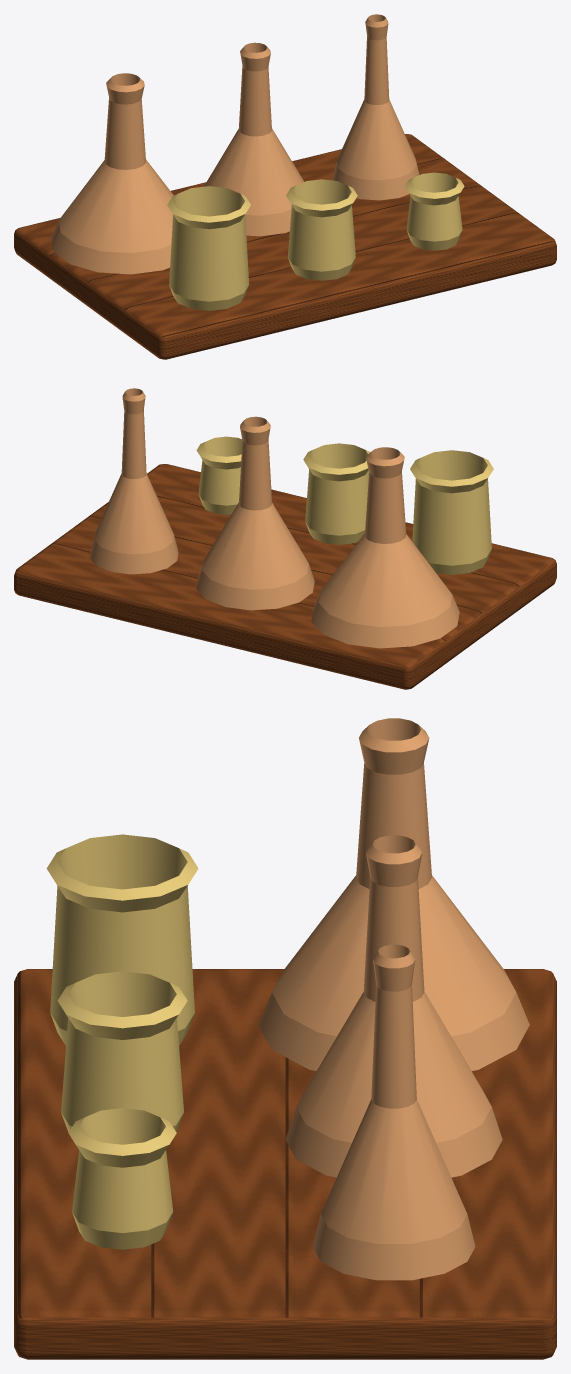
Rendered from witch-cottage-and-apothecary-funnel-and-measure-set-23ffa721__32482.glb.
The picture shows the model from 3 angles, top to bottom: view 1: azimuth 30°, elevation 25°; view 2: azimuth 150°, elevation 25°; view 3: azimuth 270°, elevation 25°; orthographic projection. The views are drawn at different scales.
Visible parts, largest first — view 1: funnel-and-measure-set; view 2: funnel-and-measure-set; view 3: funnel-and-measure-set.
Boxes of the visible parts, x1,y1,x2,y2 form: funnel-and-measure-set: (14,14,556,359); funnel-and-measure-set: (14,388,556,689); funnel-and-measure-set: (14,718,556,1359).
Size of the model in its own units: 0.46 by 0.21 by 0.3.
Materials: 3 (1 with a texture image).
